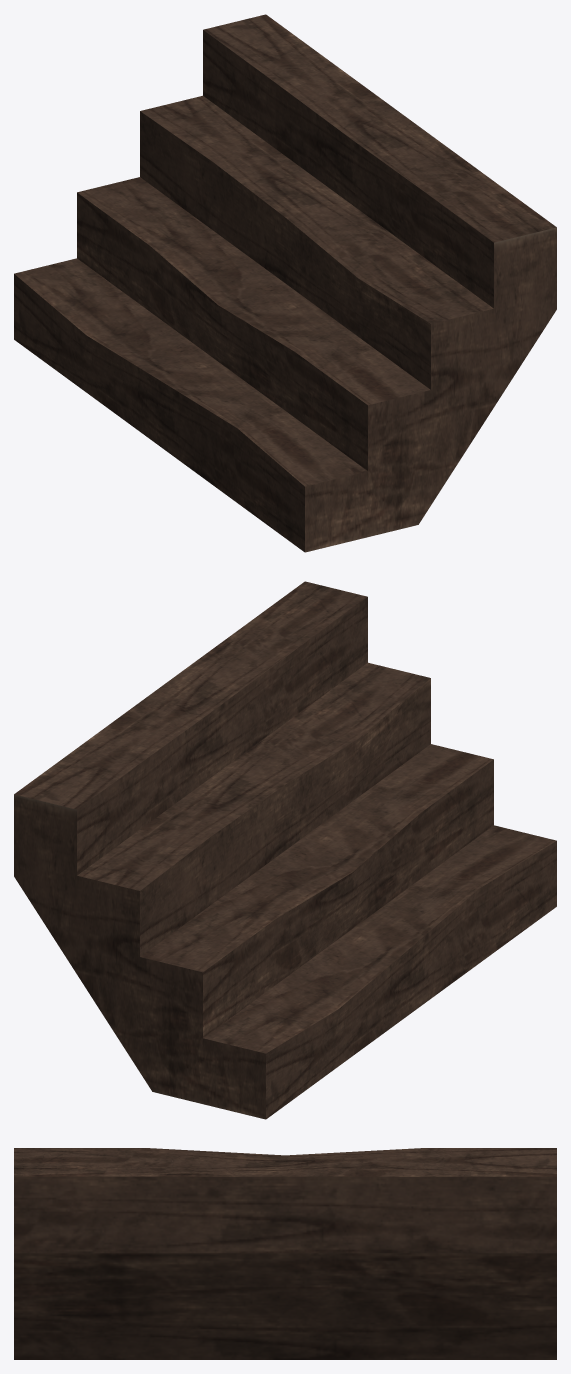
The model's file is Stairs.fbx.
3 views of the same model, one above another, from view 1: azimuth 30°, elevation 25°; view 2: azimuth 150°, elevation 25°; view 3: azimuth 270°, elevation 25° (orthographic). The views are drawn at different scales.
Visible parts, largest first — view 1: Cube.015; view 2: Cube.015; view 3: Cube.015.
Part boxes in pixels (x1,y1,x2,y2): Cube.015: [14, 14, 556, 552]; Cube.015: [14, 581, 556, 1119]; Cube.015: [14, 1148, 556, 1359].
Bounding box in the file's own units: 2.5 × 5 × 2.5.
